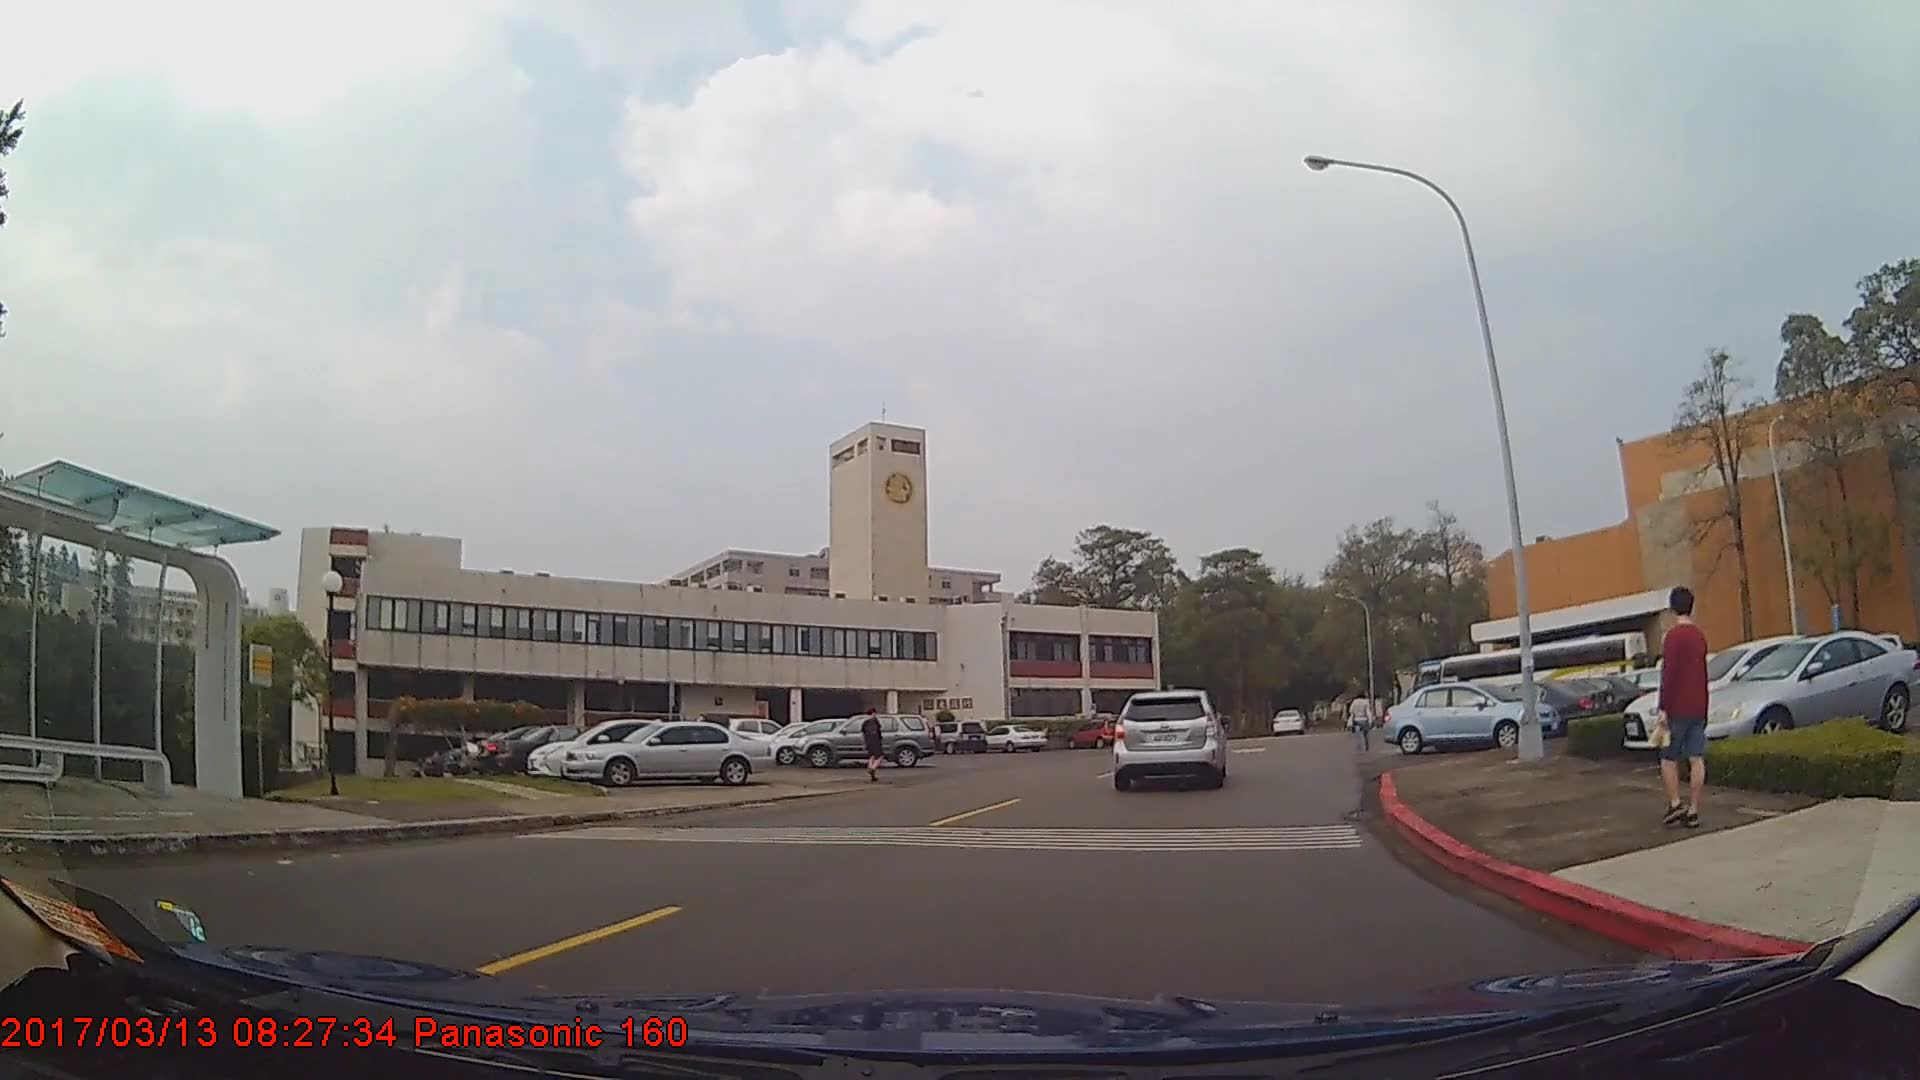pedestrian: (1661, 584, 1718, 820), (1347, 689, 1379, 753), (863, 706, 887, 782)
vehicle: (1620, 629, 1874, 746), (1688, 628, 1917, 748), (560, 717, 774, 786), (522, 714, 733, 777), (1380, 679, 1557, 749), (1114, 688, 1224, 791), (1439, 676, 1612, 735), (792, 709, 940, 766), (488, 721, 640, 776), (922, 717, 987, 752), (979, 721, 1047, 752), (1067, 716, 1129, 748), (1273, 702, 1303, 729)
